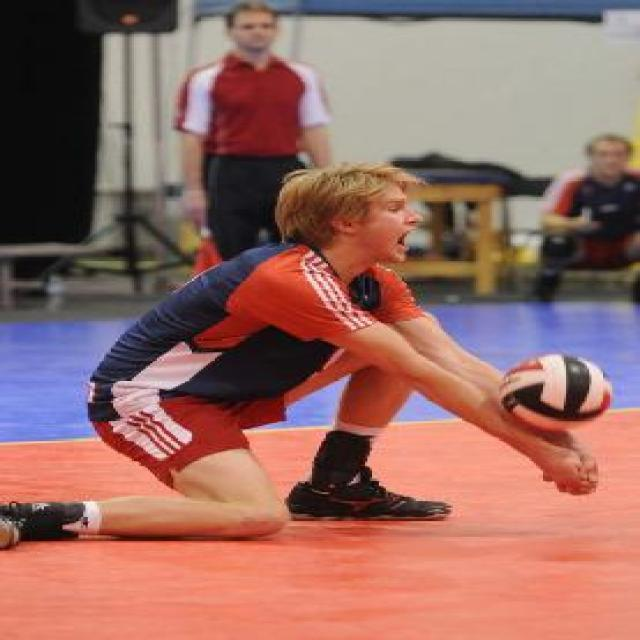volleyball: (501, 355, 612, 431)
